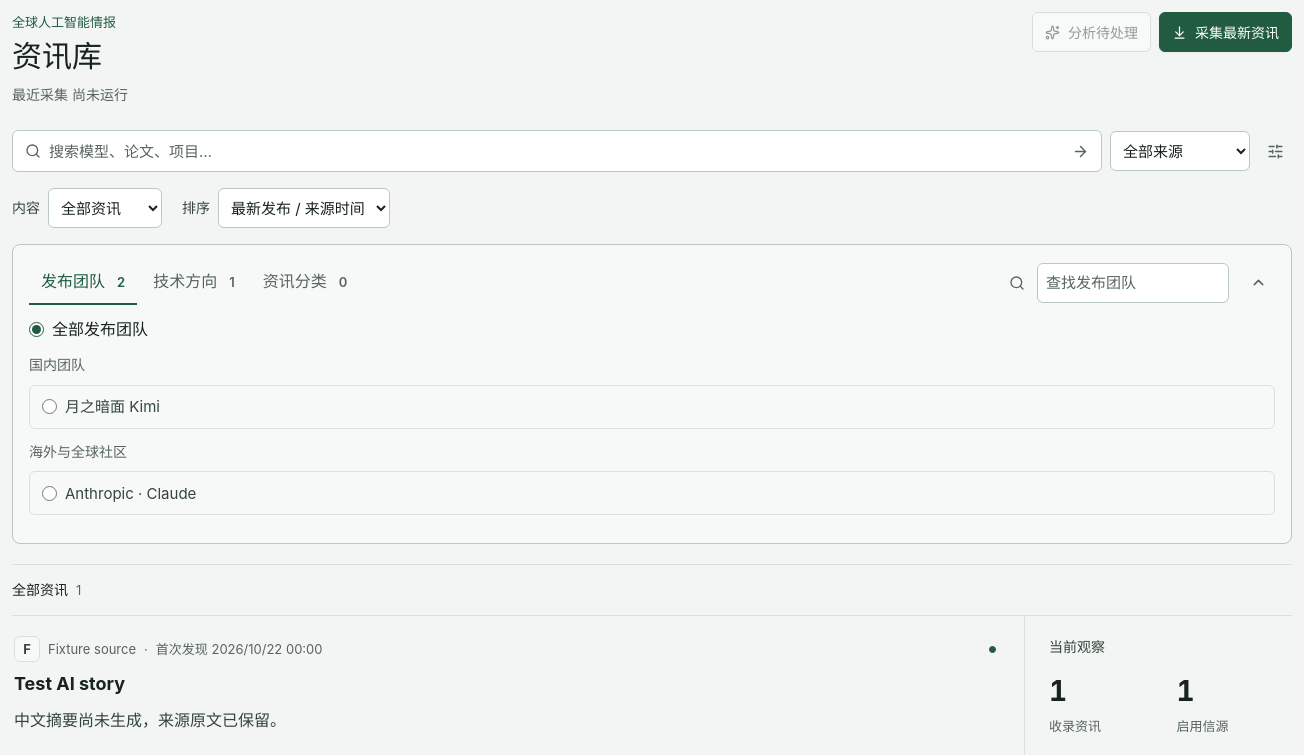
Scenario: feed interactions using isolated fixtures › filters publishers and topics in a grid and clears the selected facet
Click the radio button labelled "月之暗面 Kimi".
click(50, 407)  # box [42,399,57,414]
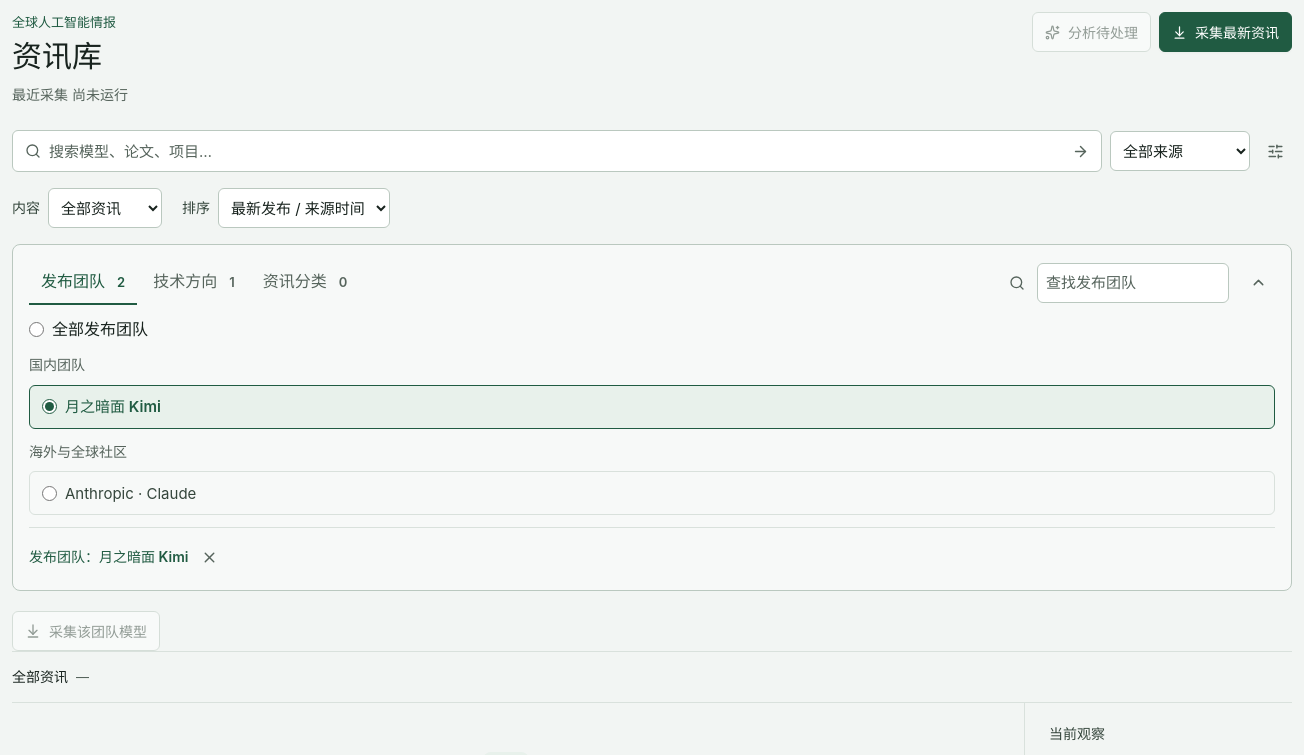
Press ArrowRight in the tab "发布团队 2", box [29,261,137,305]
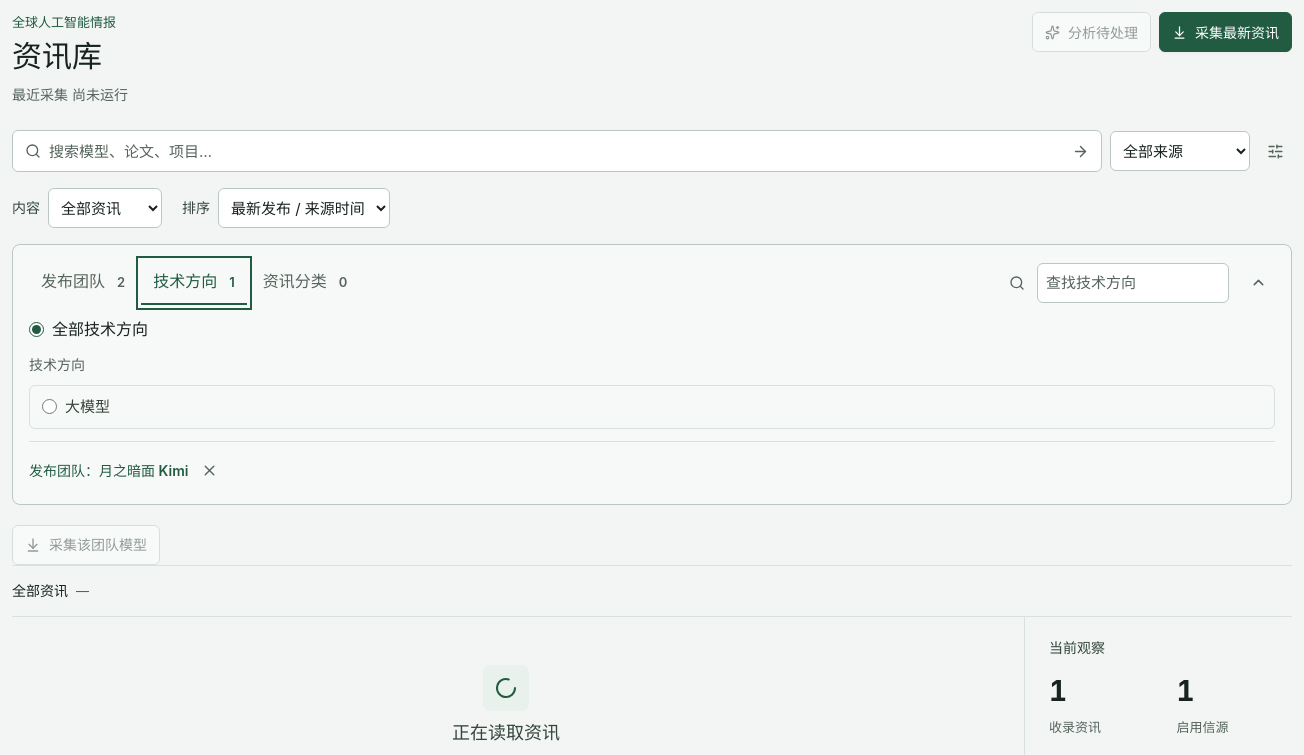
Result: the tab "技术方向 1" is selected at [141,261,247,305]
Click the radio button labelled "大模型".
click(50, 407)  # box [42,399,57,414]
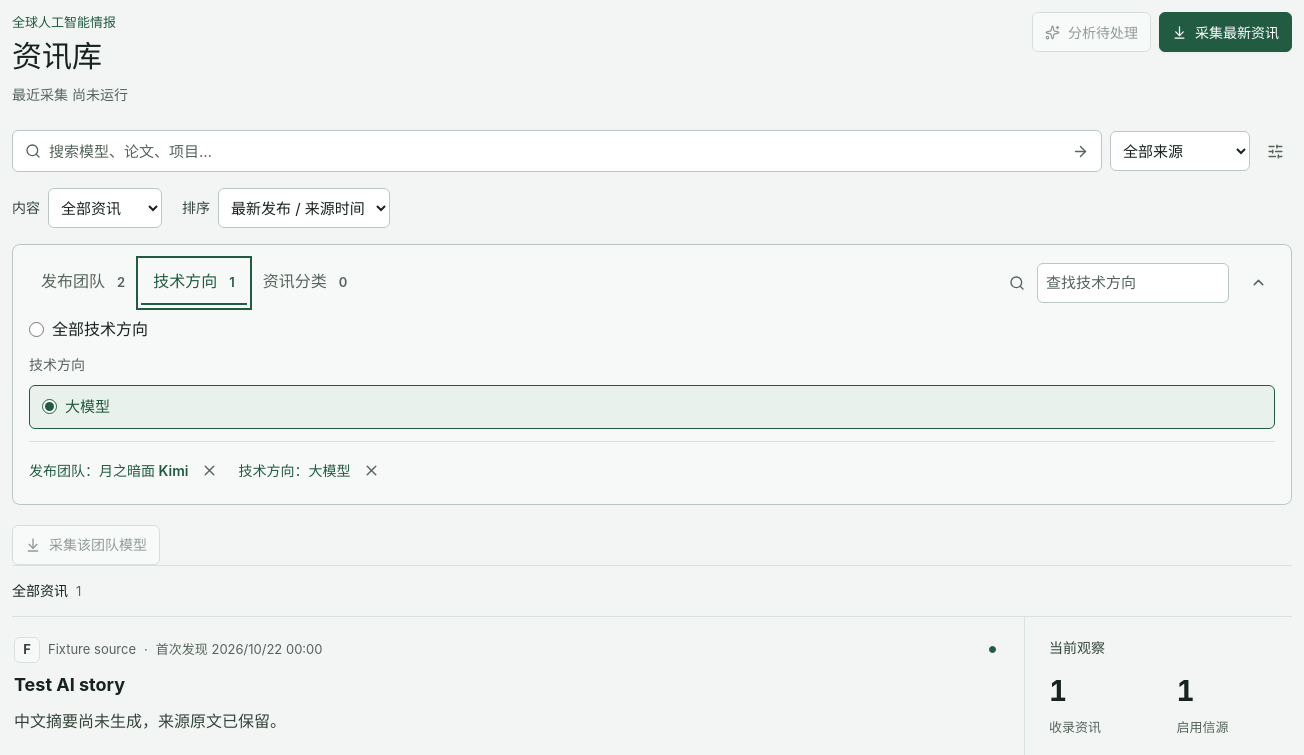
Click the button named "清除发布团队".
click(210, 471)  # box [192,454,226,488]
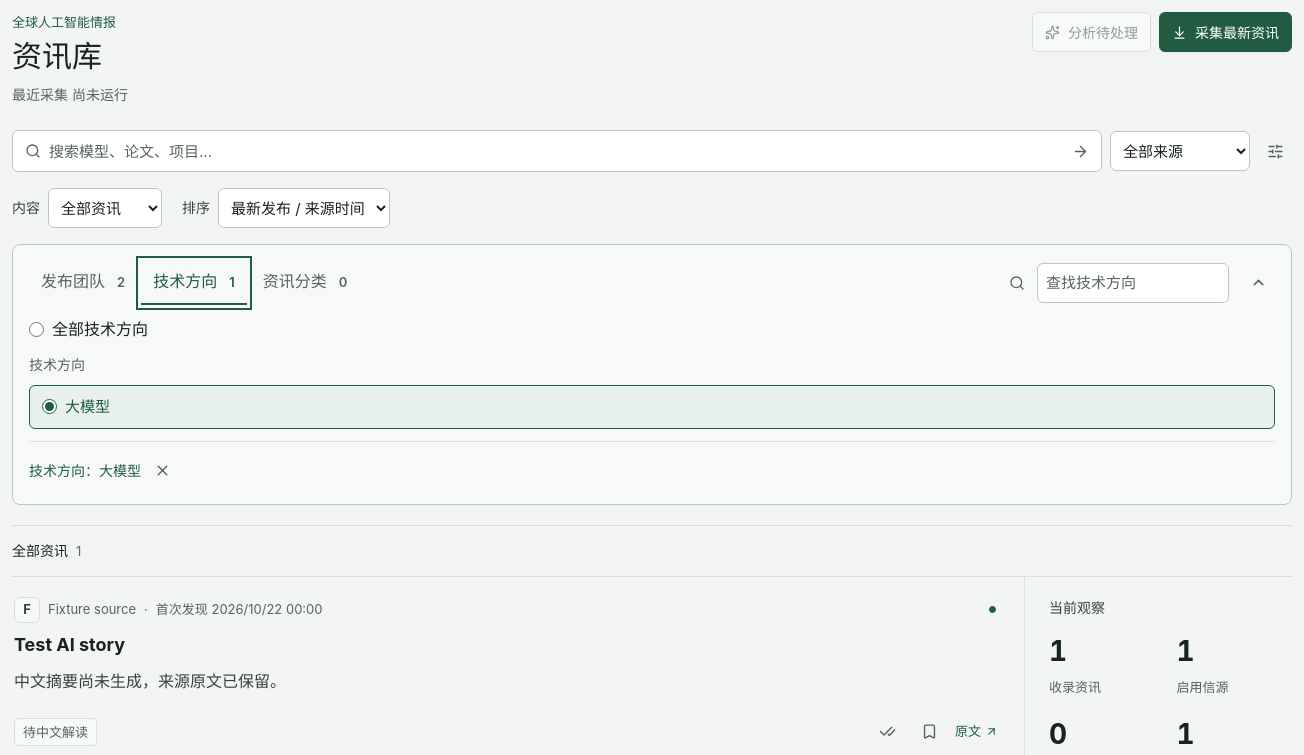
Result: the radio button labelled "大模型" is checked at [42,399,57,414]
Result: the button "清除发布团队" is gone
